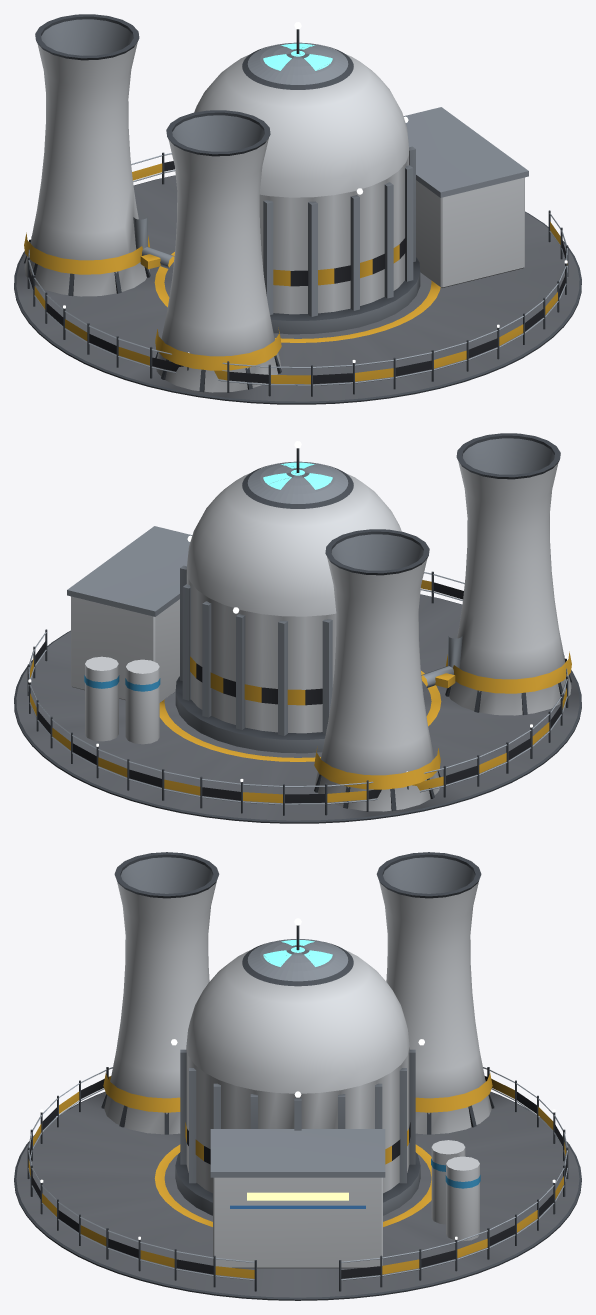
Rendered from fission_reactor.glb.
3 renders of one model, top to bottom at view 1: azimuth 30°, elevation 25°; view 2: azimuth 150°, elevation 25°; view 3: azimuth 270°, elevation 25°, orthographic.
Parts seen in each view (by area): view 1: Base, Roof; view 2: Base, Roof; view 3: Base, Roof, Lights.
Boxes of the visible parts, x1,y1,x2,y2 form: Base: (14, 14, 581, 404); Roof: (194, 29, 409, 197); Base: (14, 433, 581, 823); Roof: (186, 448, 401, 616); Base: (14, 852, 581, 1300); Roof: (186, 925, 409, 1093); Lights: (40, 918, 555, 1239).
Size of the model in its own units: 23.4 by 11.93 by 23.4.
